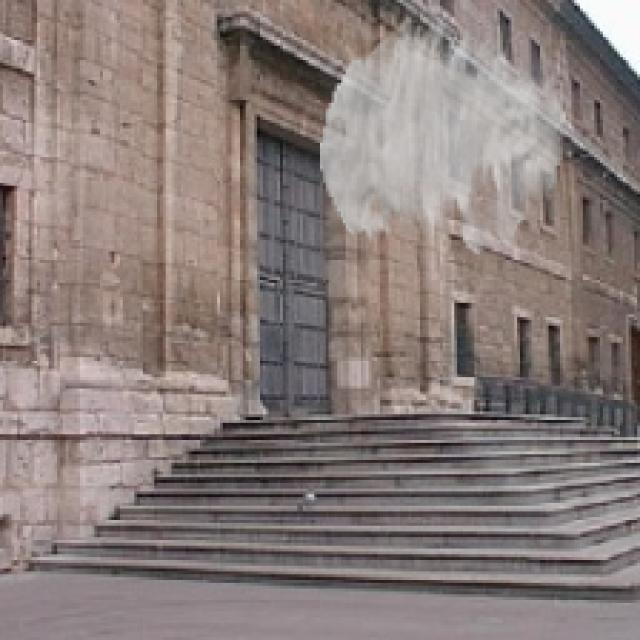smoke: (320, 14, 566, 254)
